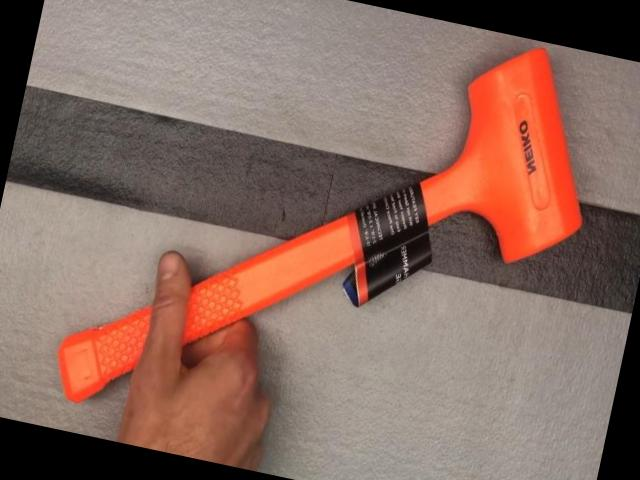hammer: (47, 0, 615, 480)
